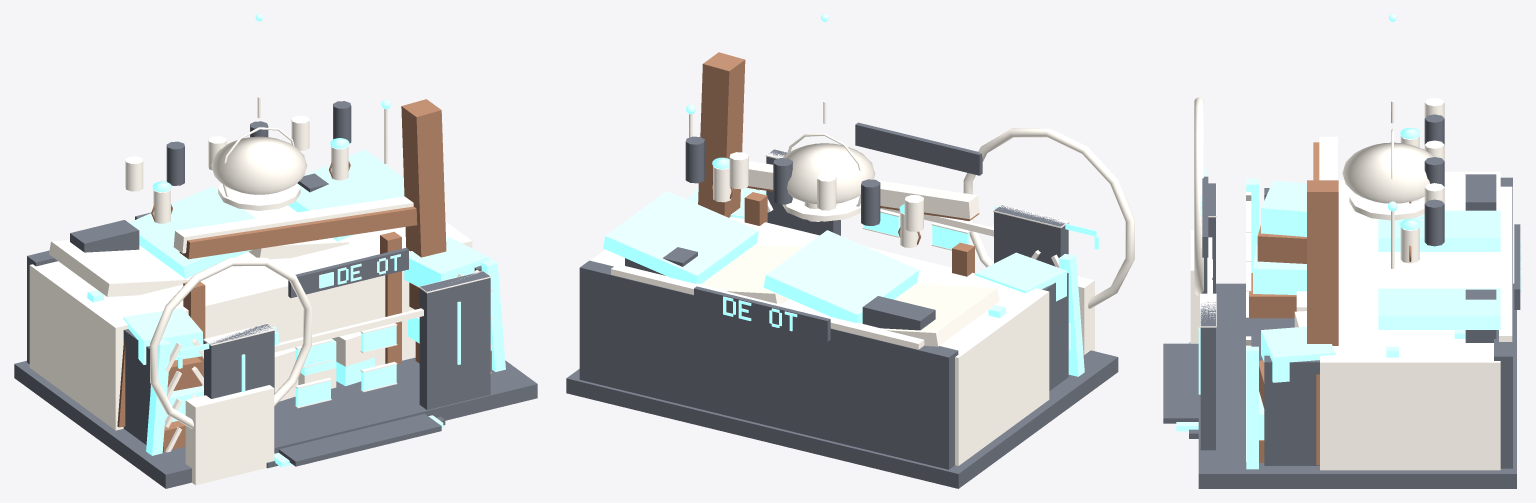
Rendered from depot.glb.
3 views of the same model, side by side, from view 1: azimuth 30°, elevation 25°; view 2: azimuth 150°, elevation 25°; view 3: azimuth 270°, elevation 25° (orthographic). The views are drawn at different scales.
Visible parts, largest first — view 1: depot:near:surface:0, depot:near:surface:1, depot:far:surface:0, depot:near:surface:2, depot:near:surface:3, depot:city-identity:cargo-crane; view 2: depot:near:surface:0, depot:near:surface:1, depot:near:surface:2, depot:far:surface:0, depot:near:surface:3; view 3: depot:near:surface:0, depot:far:surface:0, depot:near:surface:1, depot:near:surface:2, depot:near:surface:3.
Boxes of the visible parts, left/top/right/bottom form: depot:near:surface:0: left=14, top=101, right=537, bottom=488; depot:near:surface:1: left=49, top=96, right=492, bottom=485; depot:far:surface:0: left=29, top=196, right=472, bottom=430; depot:near:surface:2: left=87, top=14, right=505, bottom=467; depot:near:surface:3: left=117, top=99, right=491, bottom=451; depot:city-identity:cargo-crane: left=179, top=206, right=417, bottom=259; depot:near:surface:0: left=566, top=122, right=1118, bottom=488; depot:near:surface:1: left=611, top=100, right=1134, bottom=354; depot:near:surface:2: left=603, top=14, right=1099, bottom=376; depot:far:surface:0: left=590, top=161, right=1049, bottom=465; depot:near:surface:3: left=698, top=52, right=974, bottom=276; depot:near:surface:0: left=1163, top=114, right=1520, bottom=488; depot:far:surface:0: left=1319, top=136, right=1500, bottom=470; depot:near:surface:1: left=1190, top=97, right=1512, bottom=461; depot:near:surface:2: left=1176, top=14, right=1521, bottom=469; depot:near:surface:3: left=1249, top=180, right=1411, bottom=465.
Bounding box in the file's own units: 17.69 × 15.81 × 13.53.
